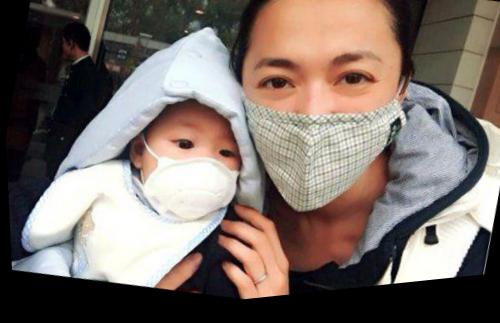OK: (131, 105, 250, 239)
WRONG: (211, 16, 412, 240)
